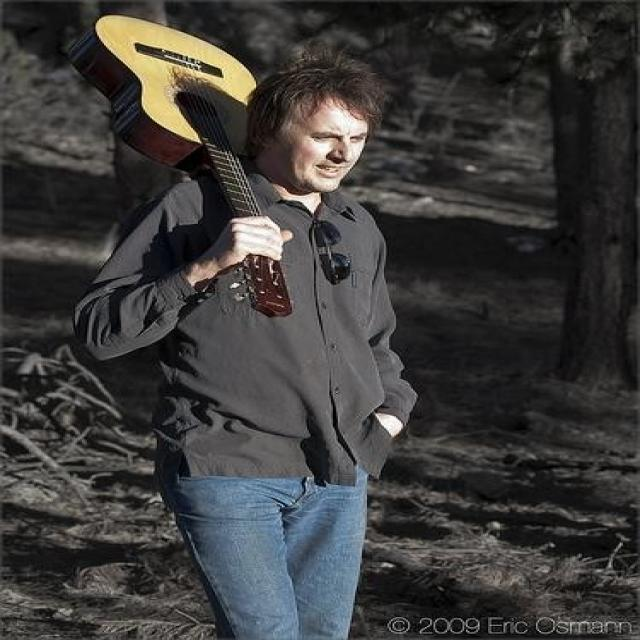guitar: (71, 13, 301, 326)
